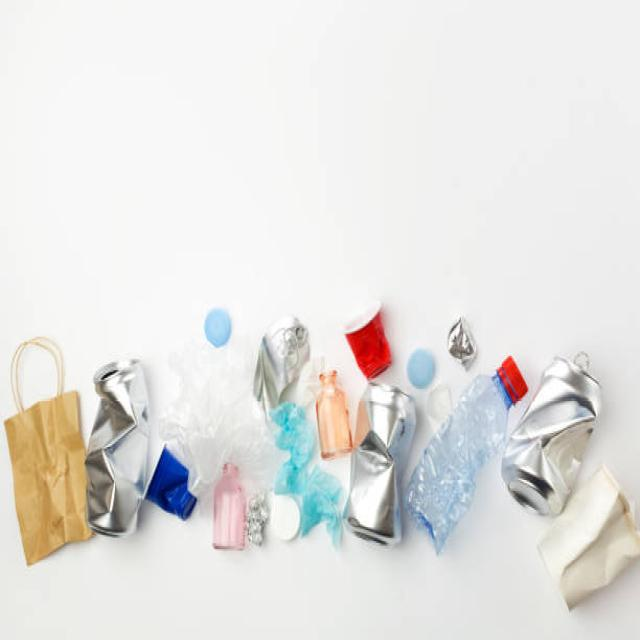cardboard: (5, 342, 76, 569)
metal: (523, 340, 600, 520), (91, 358, 146, 574), (353, 381, 409, 562)
plastic: (417, 361, 517, 577), (187, 430, 326, 541)
